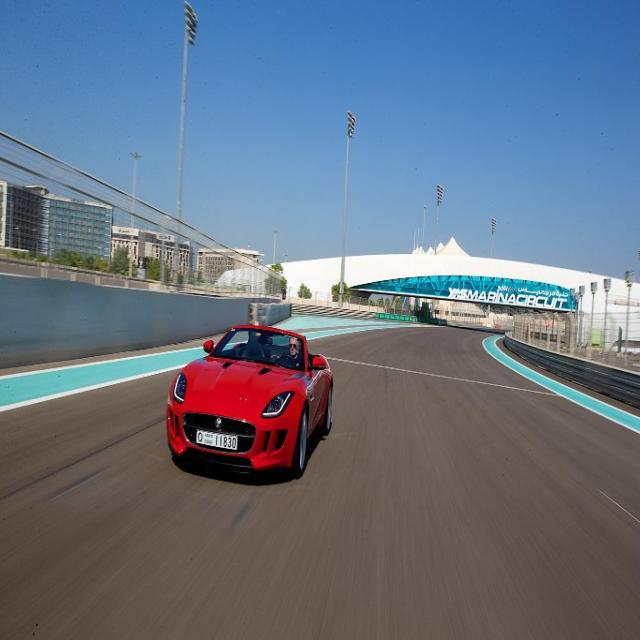car: (163, 319, 334, 477)
